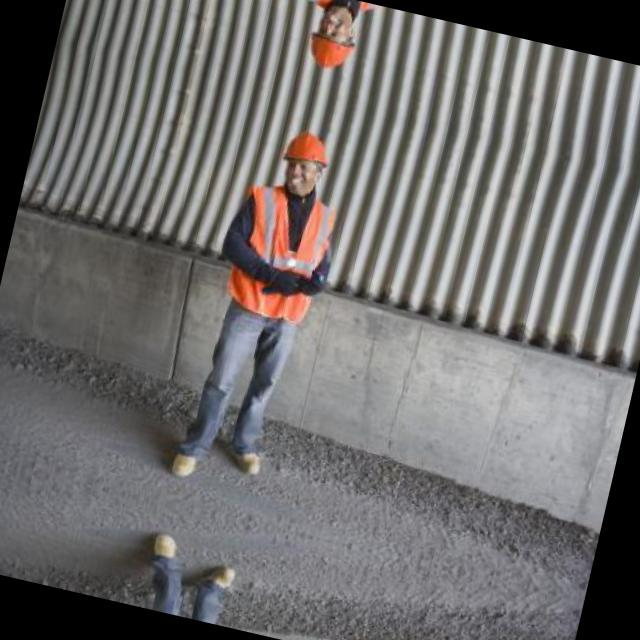helmet: (268, 118, 338, 201), (296, 0, 366, 81)
